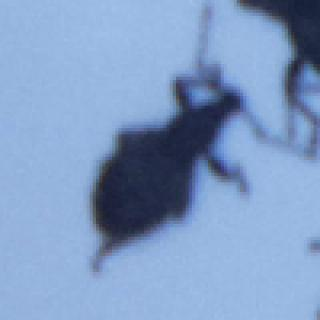bvw: (92, 2, 251, 274)
